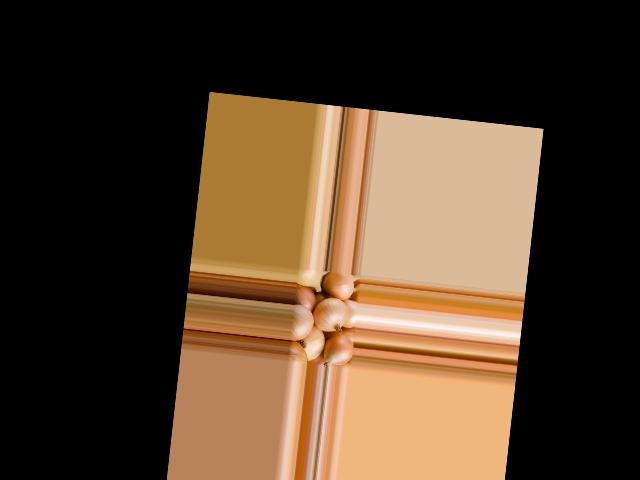onion: (339, 298, 358, 330)
